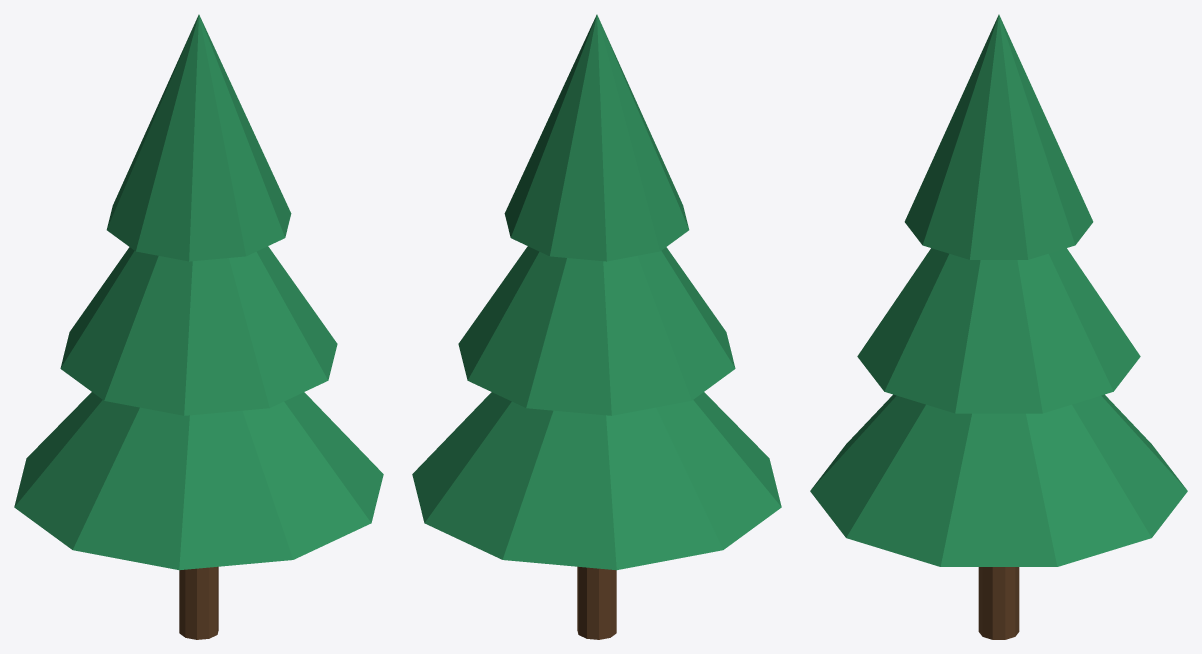
Rendered from Longboarding_Pine.fbx.
The picture shows the model from 3 angles, left to right: view 1: azimuth 30°, elevation 25°; view 2: azimuth 150°, elevation 25°; view 3: azimuth 270°, elevation 25°; orthographic projection.
Visible parts, largest first — view 1: Pine; view 2: Pine; view 3: Pine.
Part boxes in pixels (x1=…): Pine: x1=14, y1=14, x2=383, y2=639; Pine: x1=412, y1=14, x2=781, y2=639; Pine: x1=810, y1=14, x2=1187, y2=639.
Bounding box in the file's own units: 3.2 × 6.06 × 3.36.
